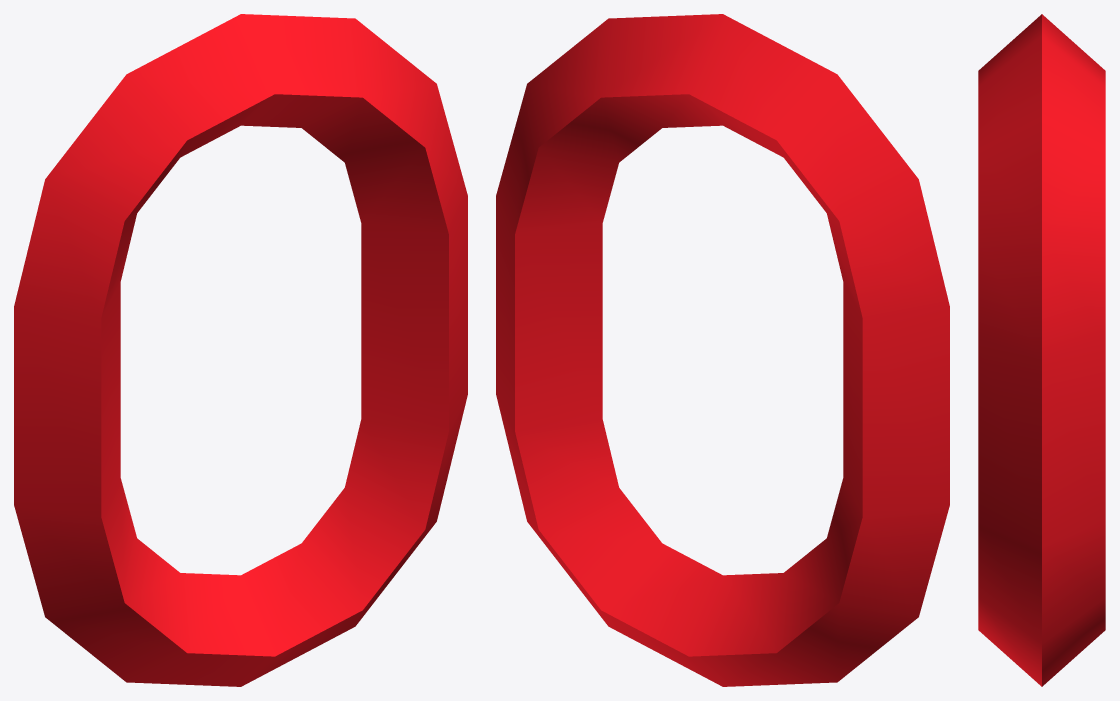
The model's file is dfk_chainlink.fbx.
The picture shows the model from 3 angles, left to right: view 1: azimuth 30°, elevation 25°; view 2: azimuth 150°, elevation 25°; view 3: azimuth 270°, elevation 25°; orthographic projection. The views are drawn at different scales.
Parts seen in each view (by area): view 1: ChainLink; view 2: ChainLink; view 3: ChainLink.
Part boxes in pixels (left/top/right/bottom): ChainLink: left=14, top=14, right=467, bottom=686; ChainLink: left=496, top=14, right=949, bottom=686; ChainLink: left=978, top=14, right=1105, bottom=686.
Size of the model in its own units: 0.0646 by 0.0915 by 0.0168.
